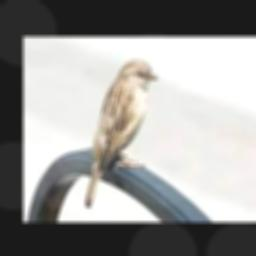Sparrow: (84, 59, 157, 207)
